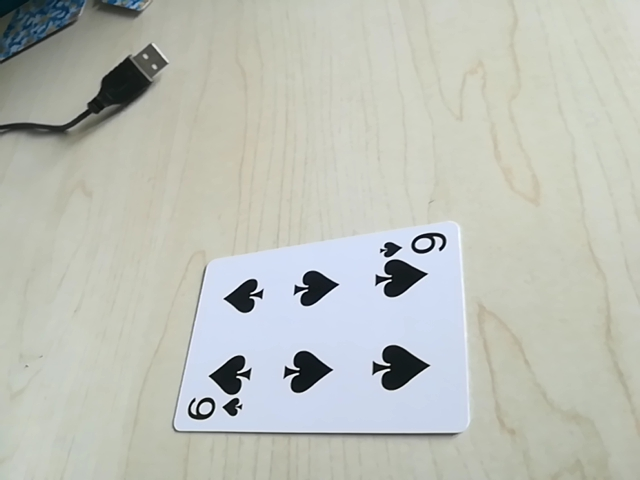ht 6: (378, 227, 451, 261), (178, 393, 249, 426)
